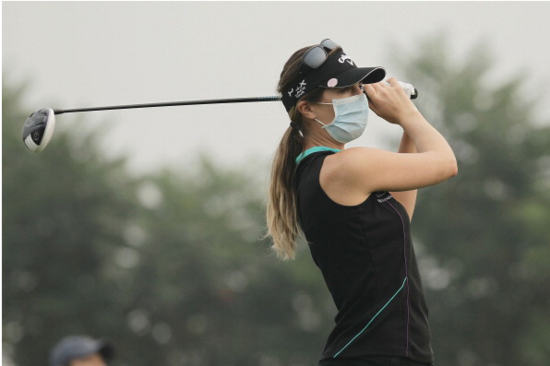face_mask: (323, 73, 375, 141)
